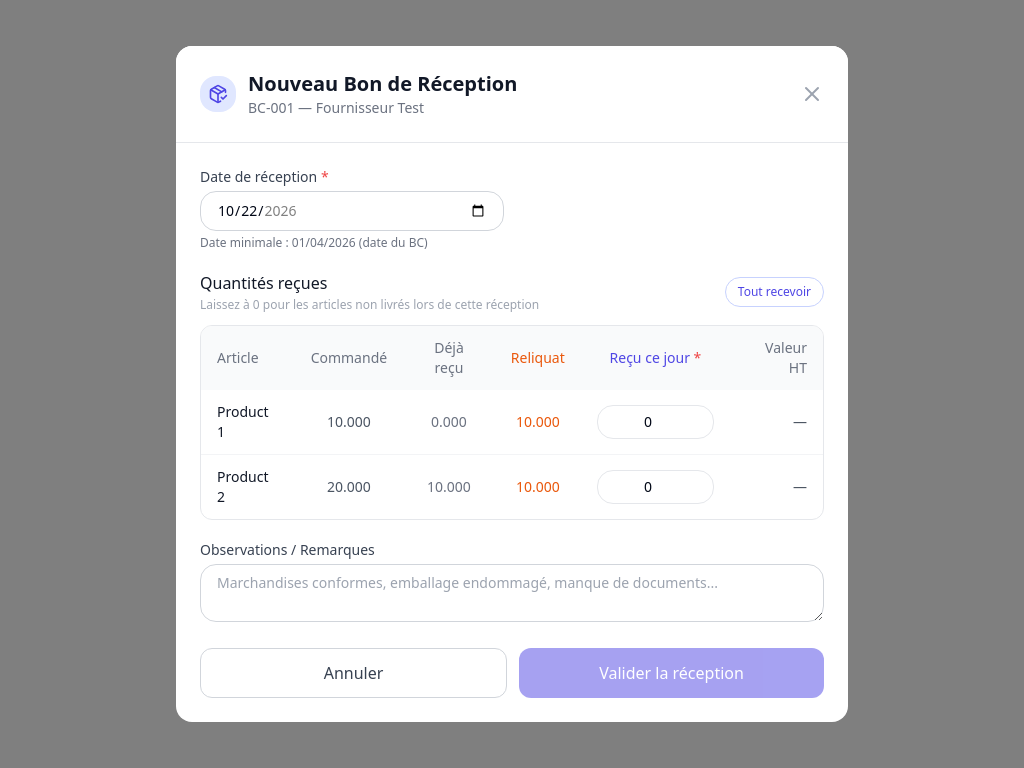
Scenario: GoodsReceiptModal › should fill all quantities when clicking "Tout recevoir"
The width and height of the screenshot is (1024, 768).
Step 1. Click the button "Tout recevoir" → (774, 292), box [725,277,824,307]
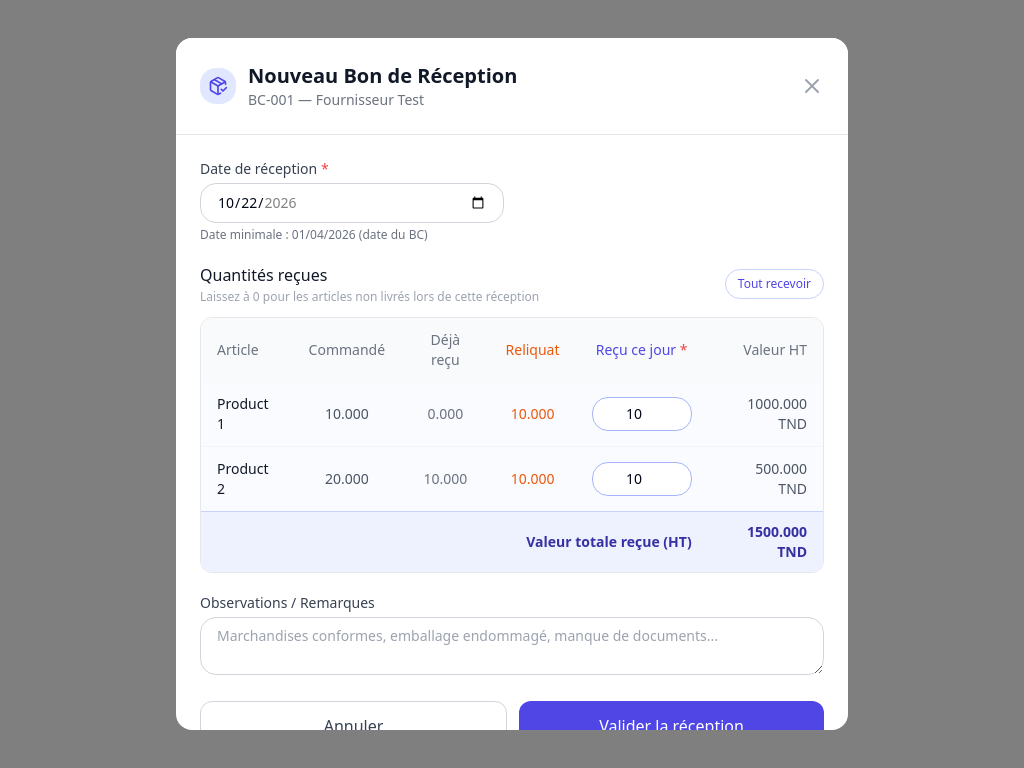
Result: the number field in the row of "Product 1" holds "10" at [592,397,692,431]
Result: the number field in the row of "Product 2" holds "10" at [592,462,692,496]
